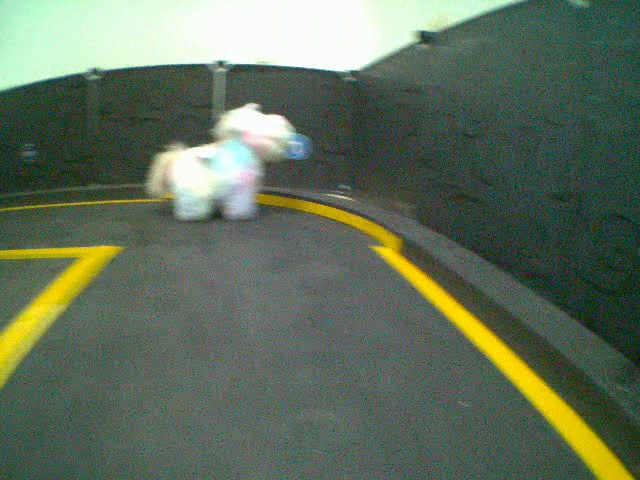unicorn: (139, 101, 297, 225)
